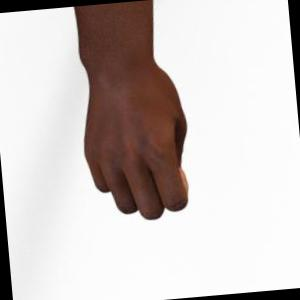rock: (74, 0, 187, 219)
